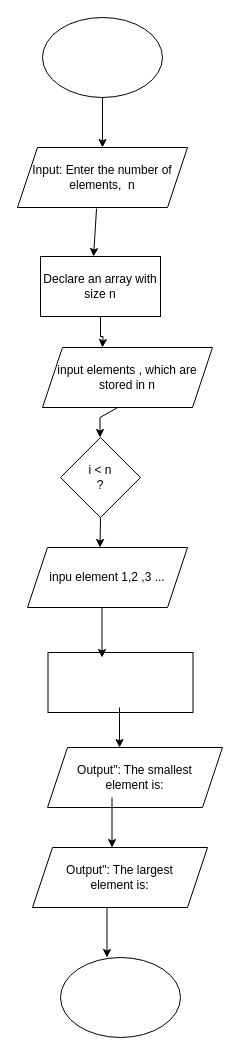
Image size: 240x1055. Some labels were removed from this diagram. Here are the shapes that lost their labels. From the top down, the box of each, then its label:
(42, 16, 162, 98): start
(47, 652, 193, 712): Call the findMinMax function
(60, 956, 180, 1038): End
